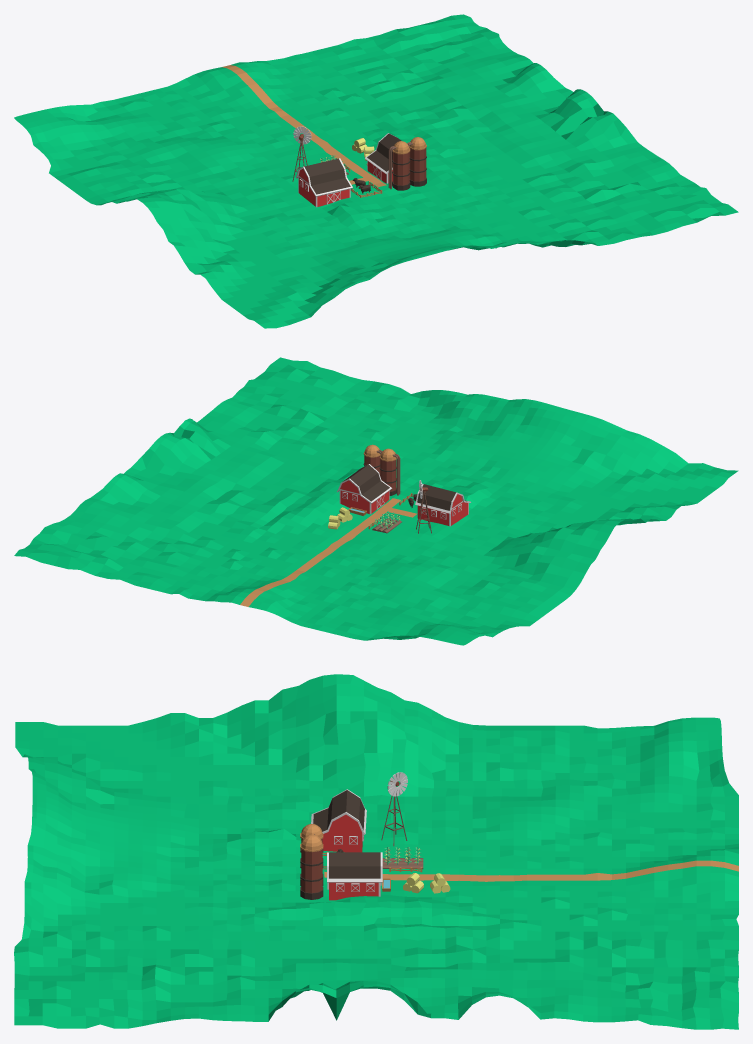
The model's file is Farm.fbx.
The picture shows the model from 3 angles, top to bottom: view 1: azimuth 30°, elevation 25°; view 2: azimuth 150°, elevation 25°; view 3: azimuth 270°, elevation 25°; orthographic projection. The views are drawn at different scales.
Parts seen in each view (by area): view 1: Plane, pCube78, pSphere2, pCube77, pSphere3; view 2: Plane, pCube77, pCube78, pSphere2; view 3: Plane, pCube77, pCube78, pSphere3, pCylinder21.
Part boxes in pixels (x1,y1,x2,y2): Plane: (14, 14, 738, 328); pCube78: (296, 158, 352, 207); pSphere2: (388, 141, 410, 190); pCube77: (365, 133, 401, 183); pSphere3: (407, 137, 426, 186); Plane: (14, 357, 738, 645); pCube77: (337, 464, 392, 514); pCube78: (415, 483, 470, 526); pSphere2: (379, 448, 400, 495); Plane: (14, 674, 738, 1029); pCube77: (327, 852, 382, 900); pCube78: (311, 789, 366, 852); pSphere3: (300, 834, 323, 899); pCylinder21: (381, 772, 407, 846).
Bounding box in the file's own units: 1536 × 188 × 1540.
